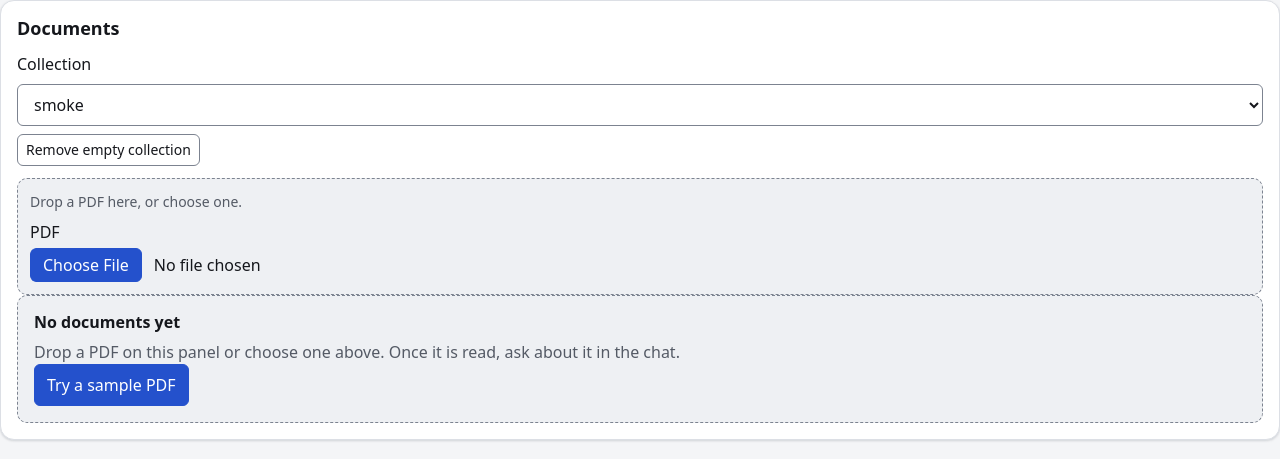
Test: DocumentsPanel › remove empty collection › asks first, then removes the empty active collection
The image size is (1280, 459).
What coordinates should you click on to do the following:
click the button "Remove empty collection"
I would click on:
 (108, 150)
Its box is [17,134,200,166].
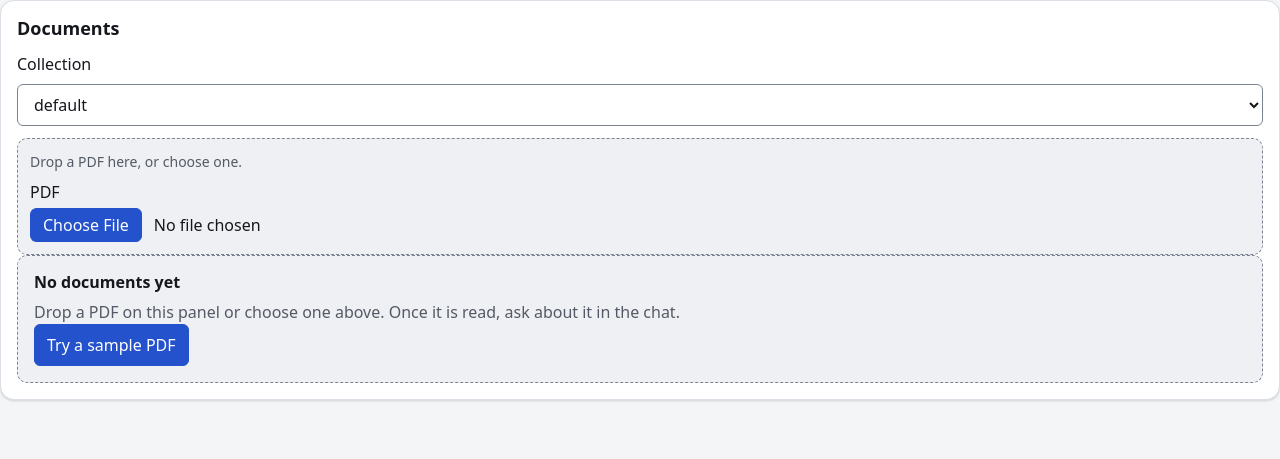
Expected: the option "smoke" is not shown
Expected: the button "Remove empty collection" is gone
